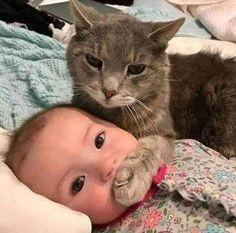kedo: (67, 0, 187, 111)
